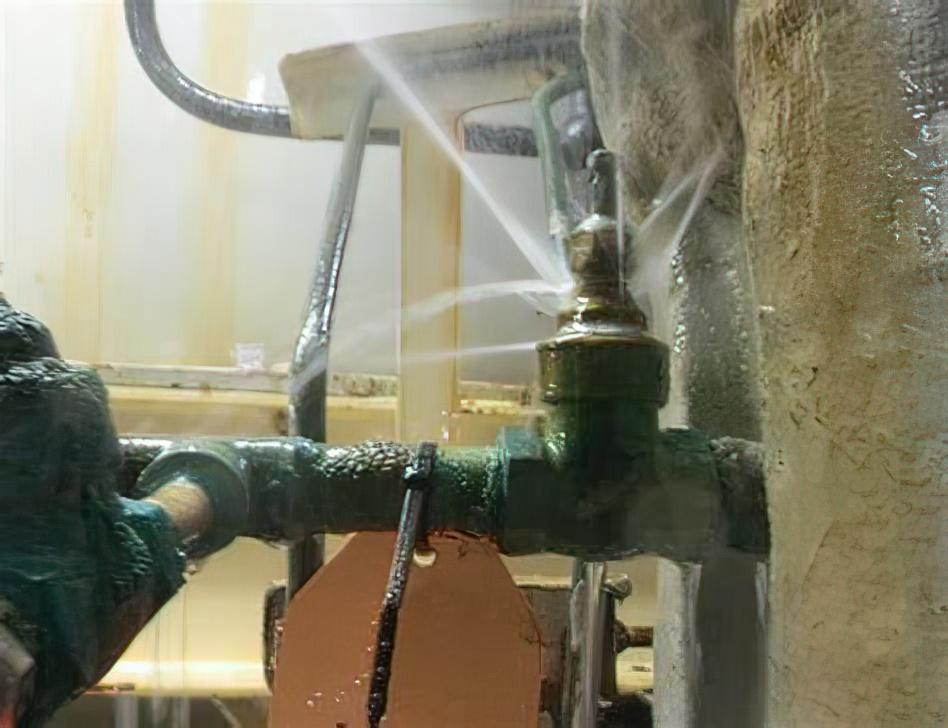pipe burst: (274, 0, 728, 346)
